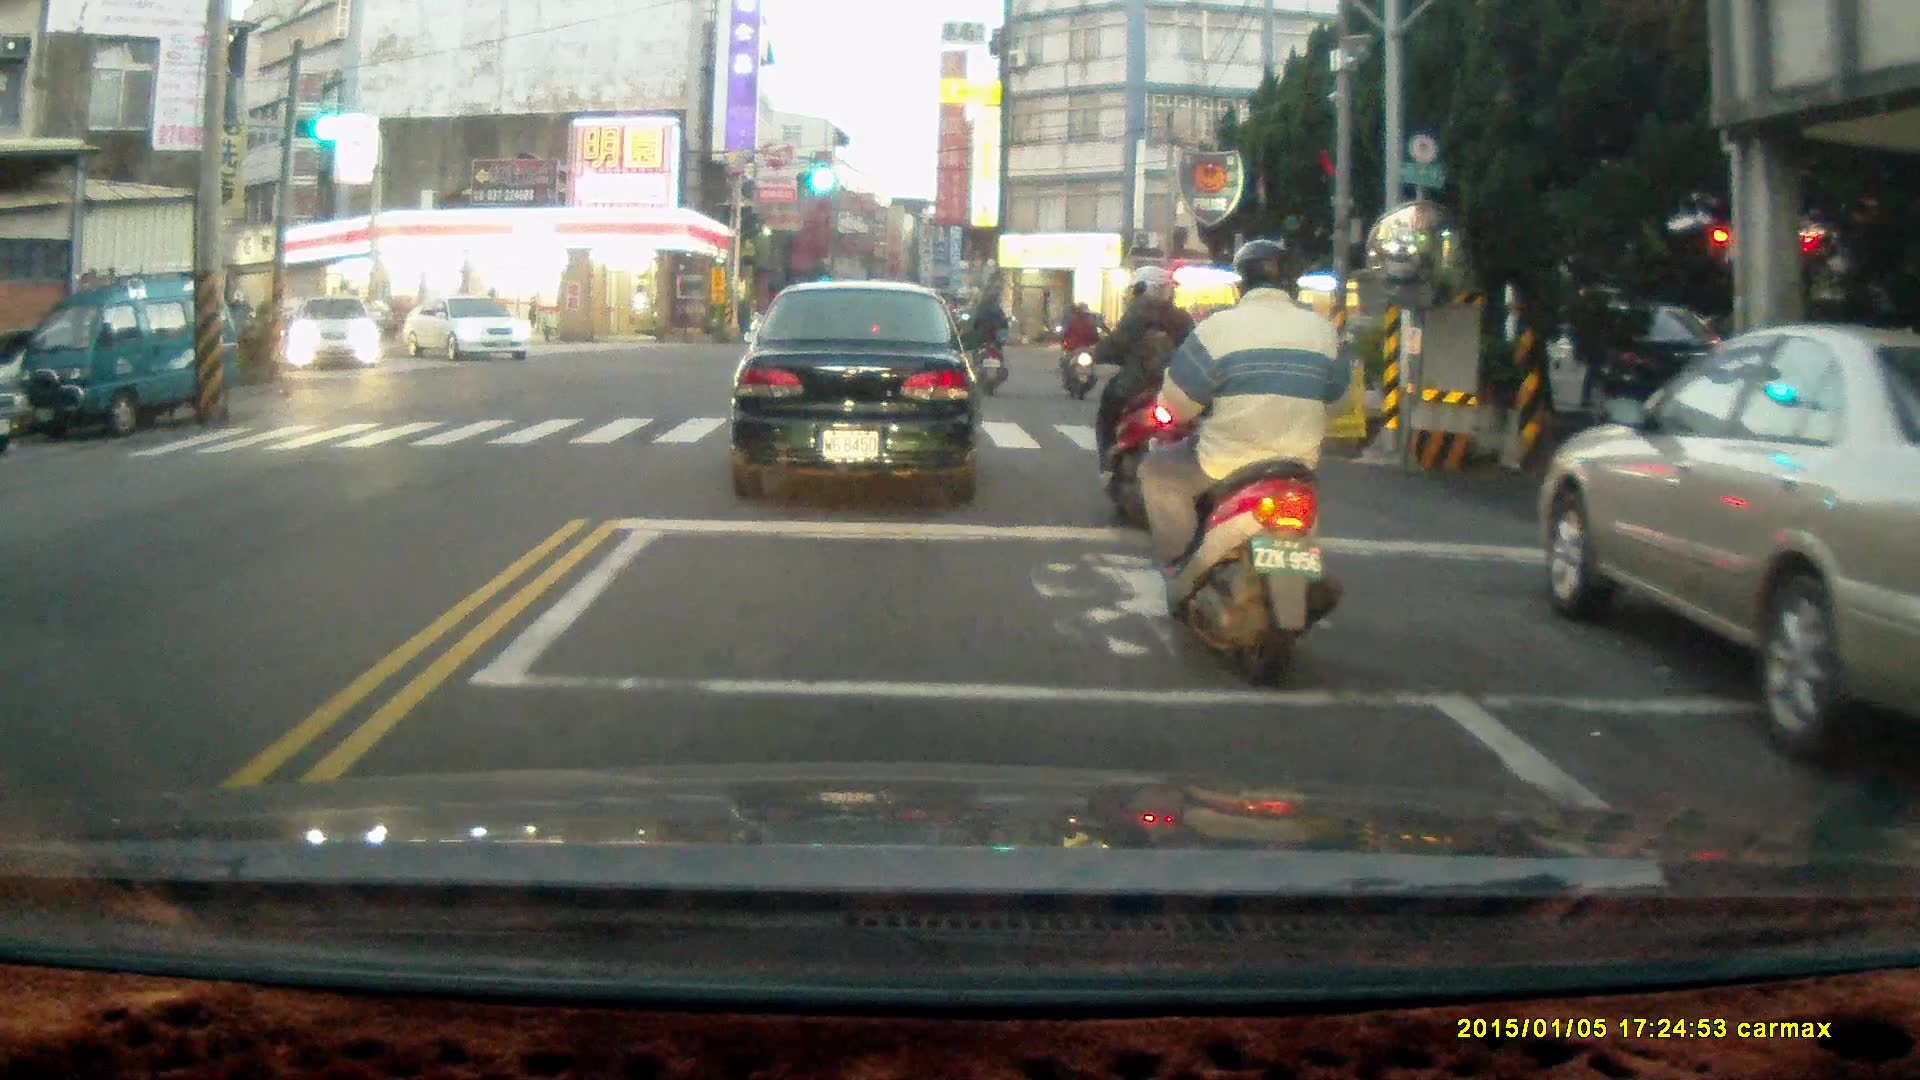rider: (1145, 236, 1359, 689), (1075, 257, 1211, 536), (959, 285, 1018, 394), (1056, 298, 1099, 399)
vehicle: (1537, 320, 1920, 779), (724, 277, 985, 504), (13, 275, 245, 440), (403, 294, 534, 363), (282, 296, 388, 371)
